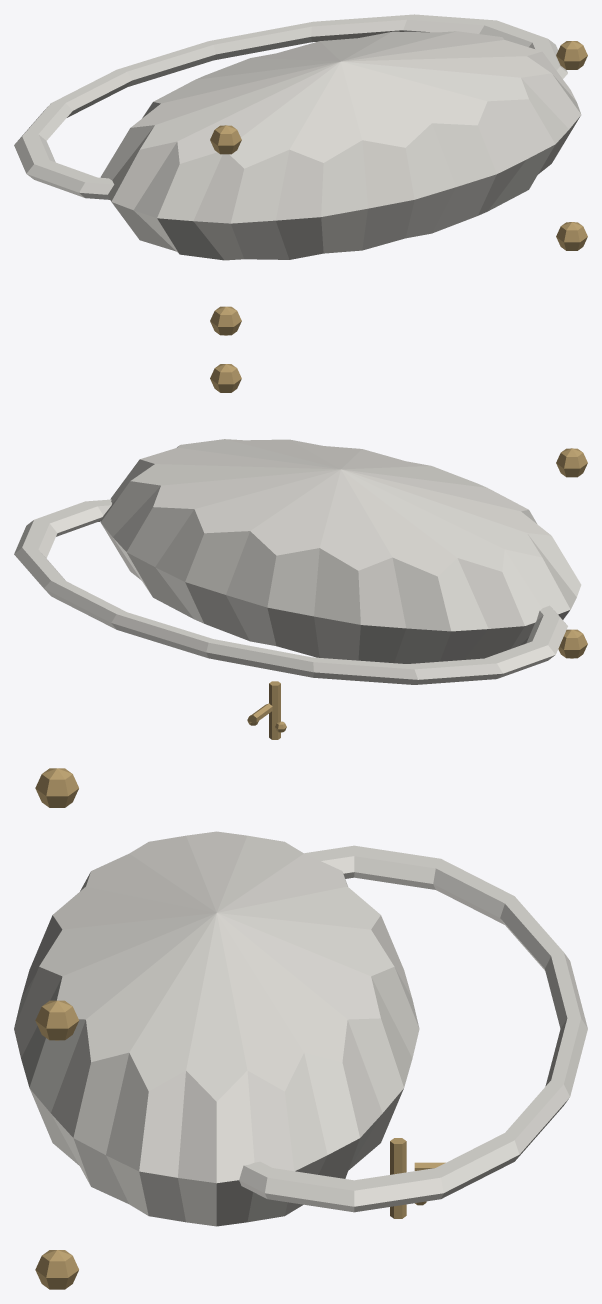
The model's file is bathtub.obj.
3 renders of one model, top to bottom at view 1: azimuth 30°, elevation 25°; view 2: azimuth 150°, elevation 25°; view 3: azimuth 270°, elevation 25°, orthographic. The views are drawn at different scales.
Visible parts, largest first — view 1: Bathtub; view 2: Bathtub; view 3: Bathtub.
Boxes of the visible parts, <box> form: Bathtub: <box>14,14,587,335</box>; Bathtub: <box>14,364,587,739</box>; Bathtub: <box>14,768,587,1289</box>.
Bounding box in the file's own units: 1.53 × 0.665 × 1.04.
